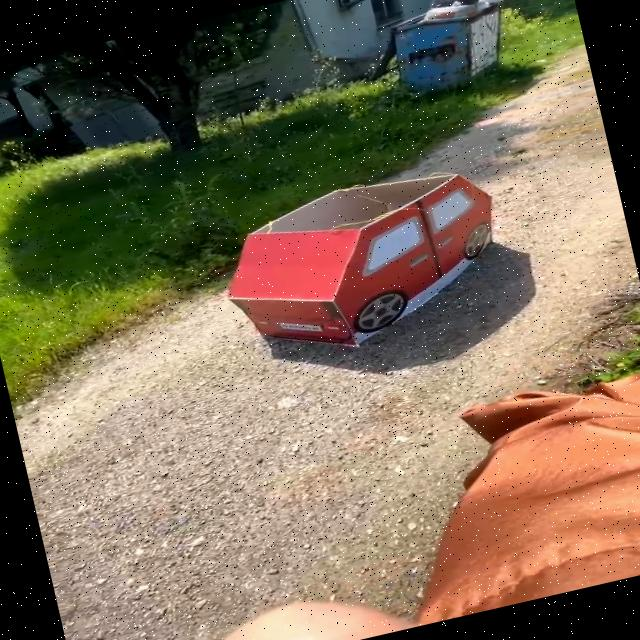red_car: (194, 141, 530, 394)
